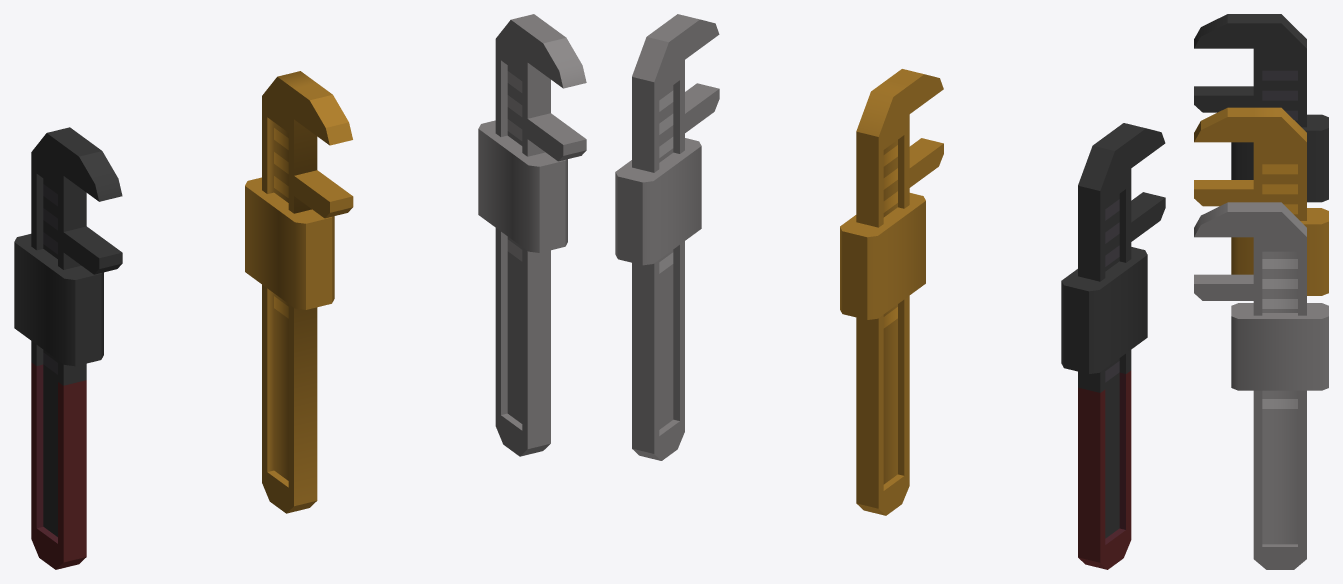
File: Wrenches.fbx
The picture shows the model from 3 angles, left to right: view 1: azimuth 30°, elevation 25°; view 2: azimuth 150°, elevation 25°; view 3: azimuth 270°, elevation 25°; orthographic projection. The views are drawn at different scales.
Parts seen in each view (by area): view 1: Wrench, WrenchSyndicate, WrenchBrass; view 2: WrenchSyndicate, WrenchBrass, Wrench; view 3: Wrench, WrenchBrass, WrenchSyndicate.
Part boxes in pixels (box(x1,y1,x2,y2)): Wrench: box(478, 14, 586, 456); WrenchSyndicate: box(14, 127, 122, 569); WrenchBrass: box(245, 71, 353, 513); WrenchSyndicate: box(1061, 123, 1165, 569); WrenchBrass: box(840, 69, 943, 515); Wrench: box(615, 14, 719, 460); Wrench: box(1194, 202, 1328, 569); WrenchBrass: box(1194, 107, 1328, 295); WrenchSyndicate: box(1194, 14, 1328, 202).
Bounding box in the file's own units: 0.6656 × 0.5434 × 0.1856.
